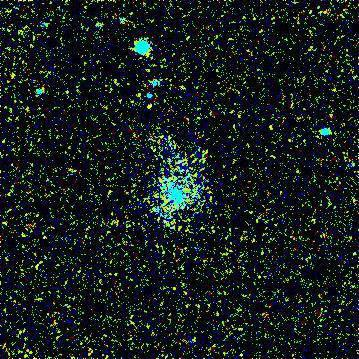star: (135, 91, 165, 121)
